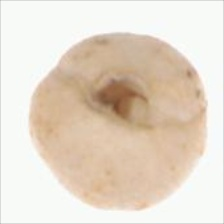L3: (85, 71, 154, 129)
L4: (28, 32, 207, 212)
